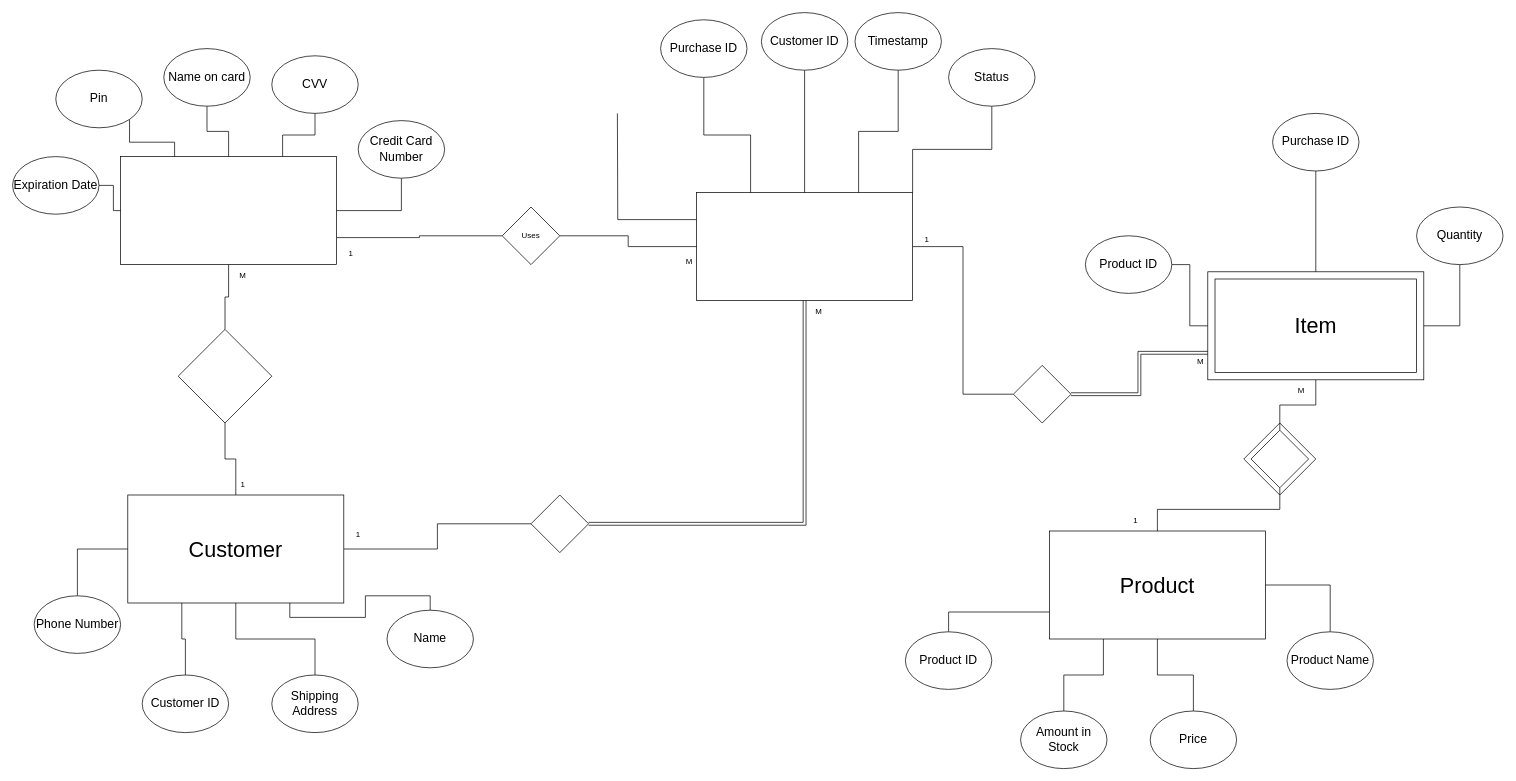
Image size: 1516x781. Some labels were removed from this diagram. The box of each missing label's shape, as (x1, y1, x2, y2) in pixels:
Contains: (1013, 365, 1071, 423)
Credit Card: (120, 156, 337, 265)
Has: (177, 329, 272, 423)
Makes: (530, 494, 589, 553)
Purchase: (696, 192, 913, 301)
Refers: (1250, 429, 1309, 488)
